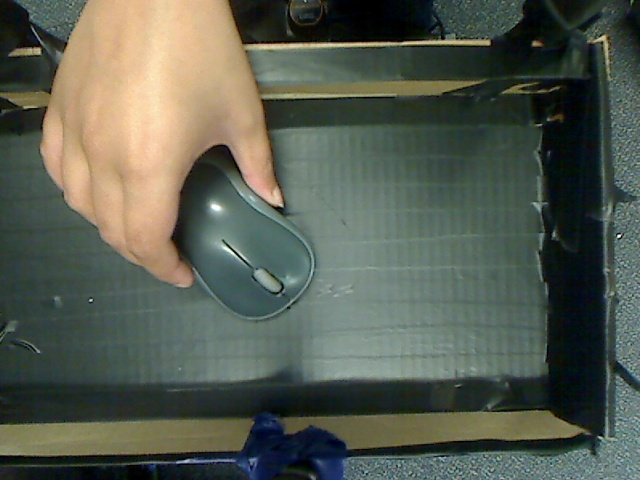mouse: (147, 141, 327, 327)
